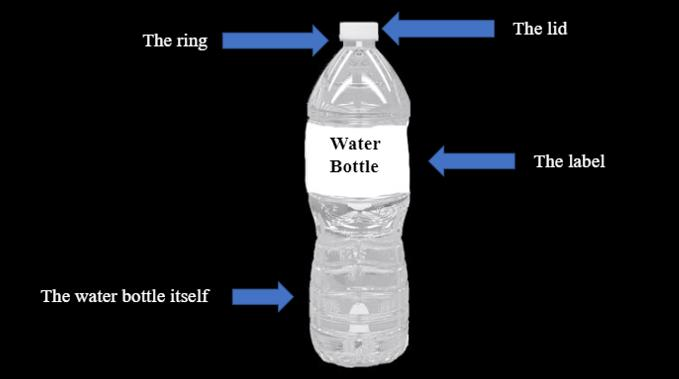bottle: (1, 3, 416, 372)
